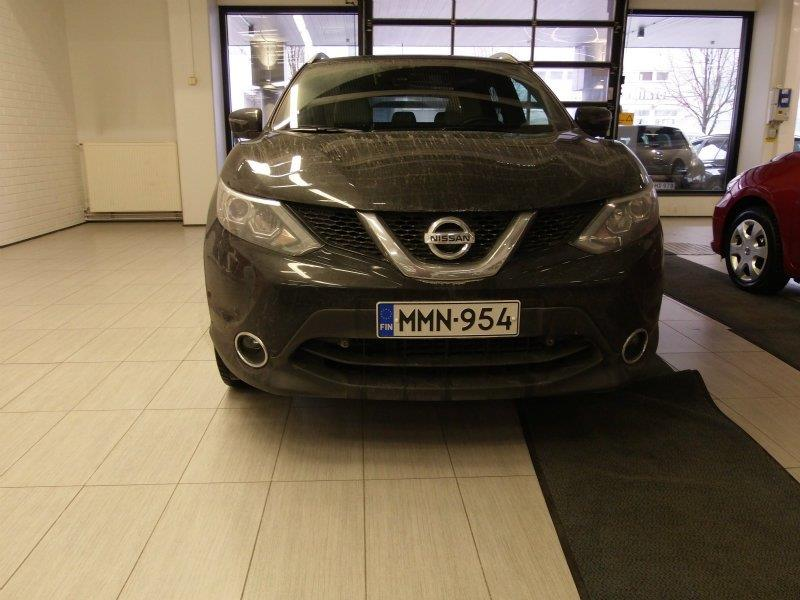license: (373, 295, 523, 342)
